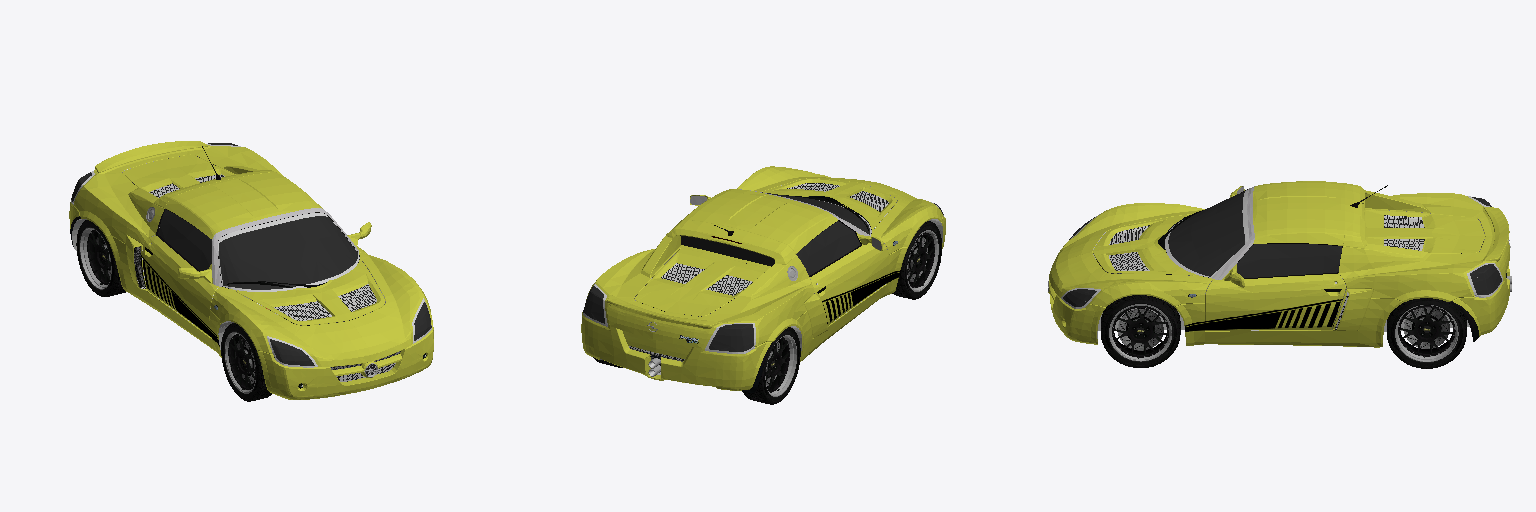
The picture shows the model from 3 angles: view 1: azimuth 30°, elevation 25°; view 2: azimuth 150°, elevation 25°; view 3: azimuth 270°, elevation 25°; orthographic projection.
Parts seen in each view (by area): view 1: Object_42, Object_32, Object_25, Object_13, Object_5, Object_31, Object_9, Object_62, Object_40, Object_61, Object_68, Object_67 (+1 smaller); view 2: Object_42, Object_18, Object_32, Object_5, Object_13, Object_62, Object_61, Object_68, Object_9, Object_67, Object_4; view 3: Object_42, Object_32, Object_5, Object_13, Object_56, Object_25, Object_50, Object_18, Object_49, Object_55, Object_31, Object_9 (+5 smaller).
Part boxes in pixels (bbox=[...]): Object_42: bbox=[74, 145, 430, 366]; Object_32: bbox=[71, 143, 431, 365]; Object_25: bbox=[257, 309, 433, 399]; Object_13: bbox=[236, 260, 384, 325]; Object_5: bbox=[123, 155, 233, 191]; Object_31: bbox=[71, 144, 431, 367]; Object_9: bbox=[95, 141, 208, 172]; Object_62: bbox=[221, 323, 271, 401]; Object_40: bbox=[151, 208, 358, 286]; Object_61: bbox=[228, 332, 256, 389]; Object_68: bbox=[76, 220, 125, 296]; Object_67: bbox=[87, 228, 111, 288]; Object_42: bbox=[586, 166, 942, 361]; Object_18: bbox=[581, 312, 771, 390]; Object_32: bbox=[583, 192, 943, 351]; Object_5: bbox=[635, 248, 767, 316]; Object_13: bbox=[763, 178, 896, 228]; Object_62: bbox=[892, 221, 941, 299]; Object_61: bbox=[907, 232, 934, 287]; Object_68: bbox=[743, 327, 800, 404]; Object_9: bbox=[607, 295, 720, 328]; Object_67: bbox=[765, 335, 789, 394]; Object_4: bbox=[662, 263, 751, 295]; Object_42: bbox=[1049, 181, 1509, 347]; Object_32: bbox=[1063, 191, 1501, 306]; Object_5: bbox=[1365, 209, 1484, 253]; Object_13: bbox=[1093, 214, 1195, 275]; Object_56: bbox=[1101, 295, 1180, 367]; Object_25: bbox=[1048, 280, 1105, 344]; Object_50: bbox=[1387, 298, 1466, 368]; Object_18: bbox=[1453, 266, 1509, 336]; Object_49: bbox=[1398, 304, 1455, 357]; Object_55: bbox=[1112, 306, 1168, 358]; Object_31: bbox=[1061, 189, 1502, 308]; Object_9: bbox=[1484, 207, 1509, 261].
Bounding box in the file's own units: 1.82 × 1.28 × 3.79.
Materials: 21 (14 with a texture image).